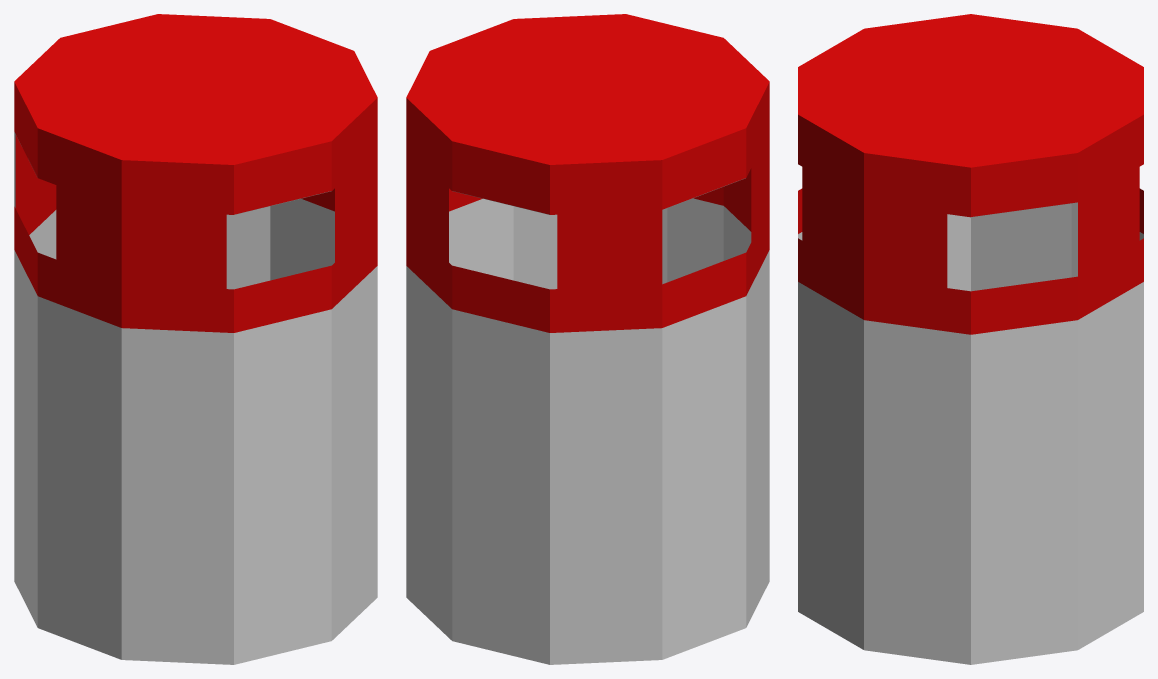
File: bin.fbx
3 views of the same model, side by side, from view 1: azimuth 30°, elevation 25°; view 2: azimuth 150°, elevation 25°; view 3: azimuth 270°, elevation 25° (orthographic).
Visible parts, largest first — view 1: pCylinder3; view 2: pCylinder3; view 3: pCylinder3.
Boxes of the visible parts, x1=… form: pCylinder3: x1=14, y1=14, x2=377, y2=664; pCylinder3: x1=406, y1=14, x2=769, y2=664; pCylinder3: x1=798, y1=14, x2=1143, y2=664.
Size of the model in its own units: 0.3262 by 0.4923 by 0.3102.
